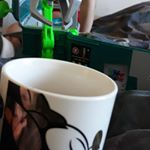cups: (1, 56, 122, 149)
